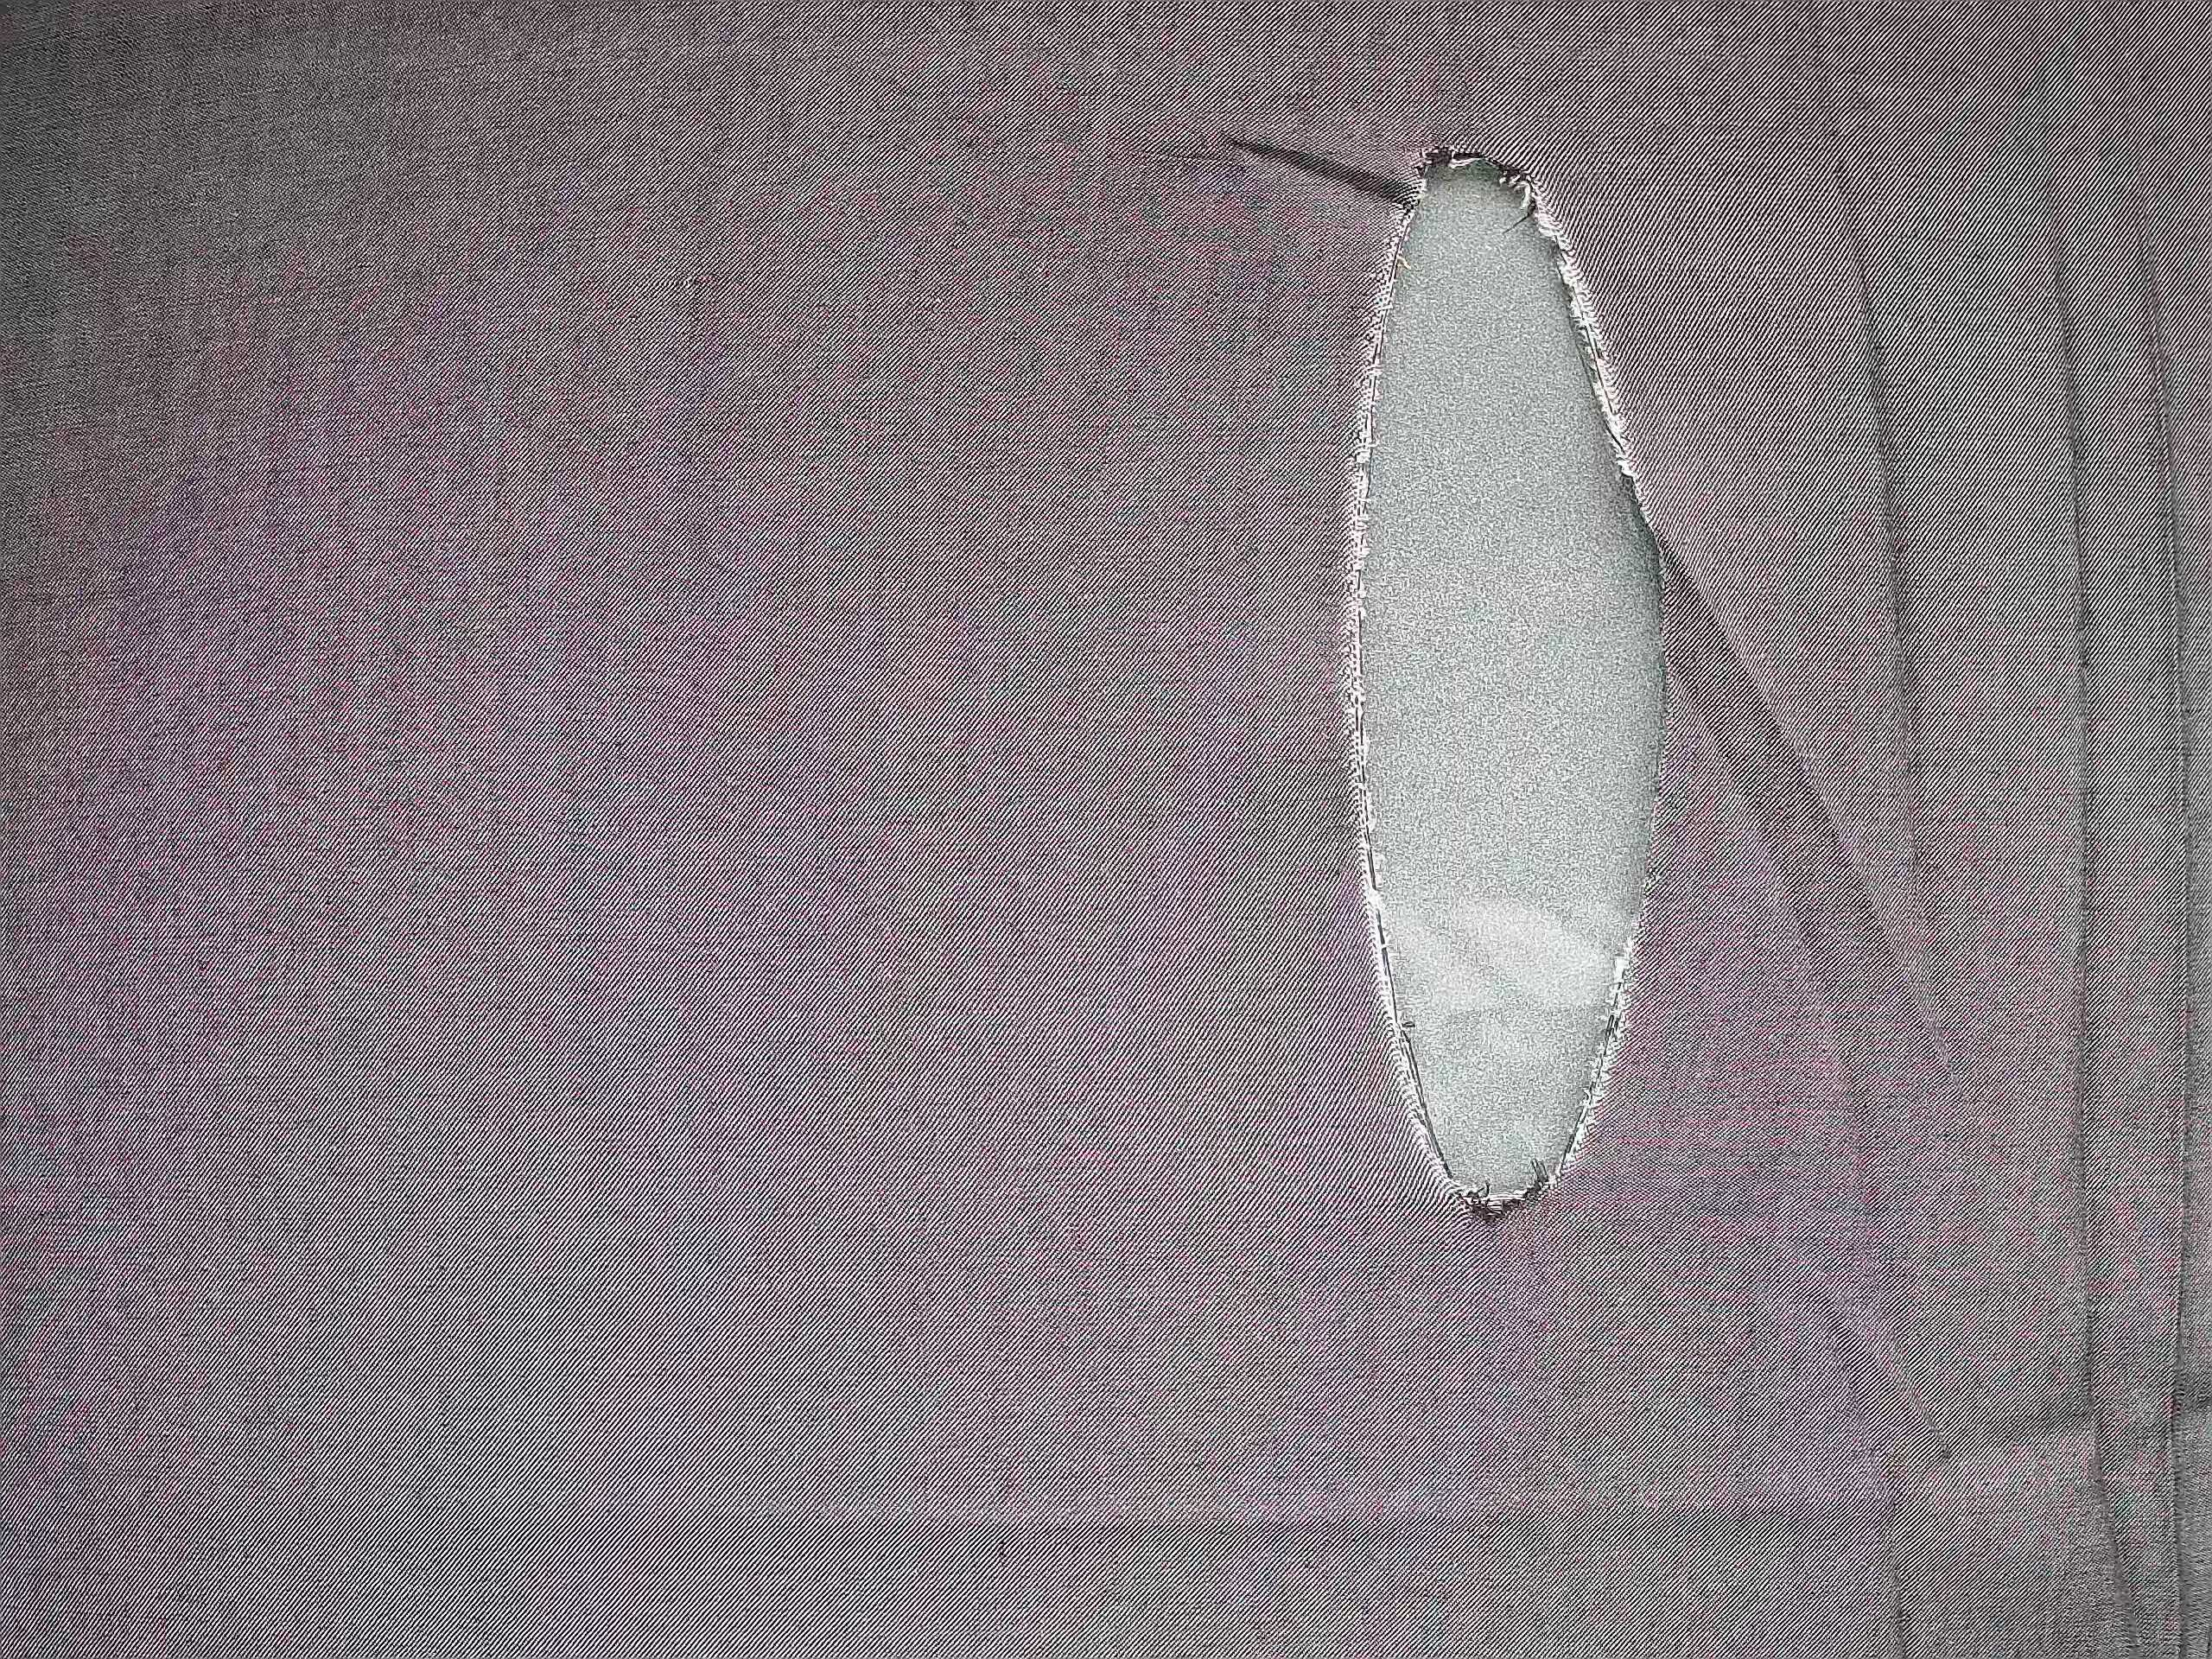puncture-hole: (1306, 112, 1724, 1253)
